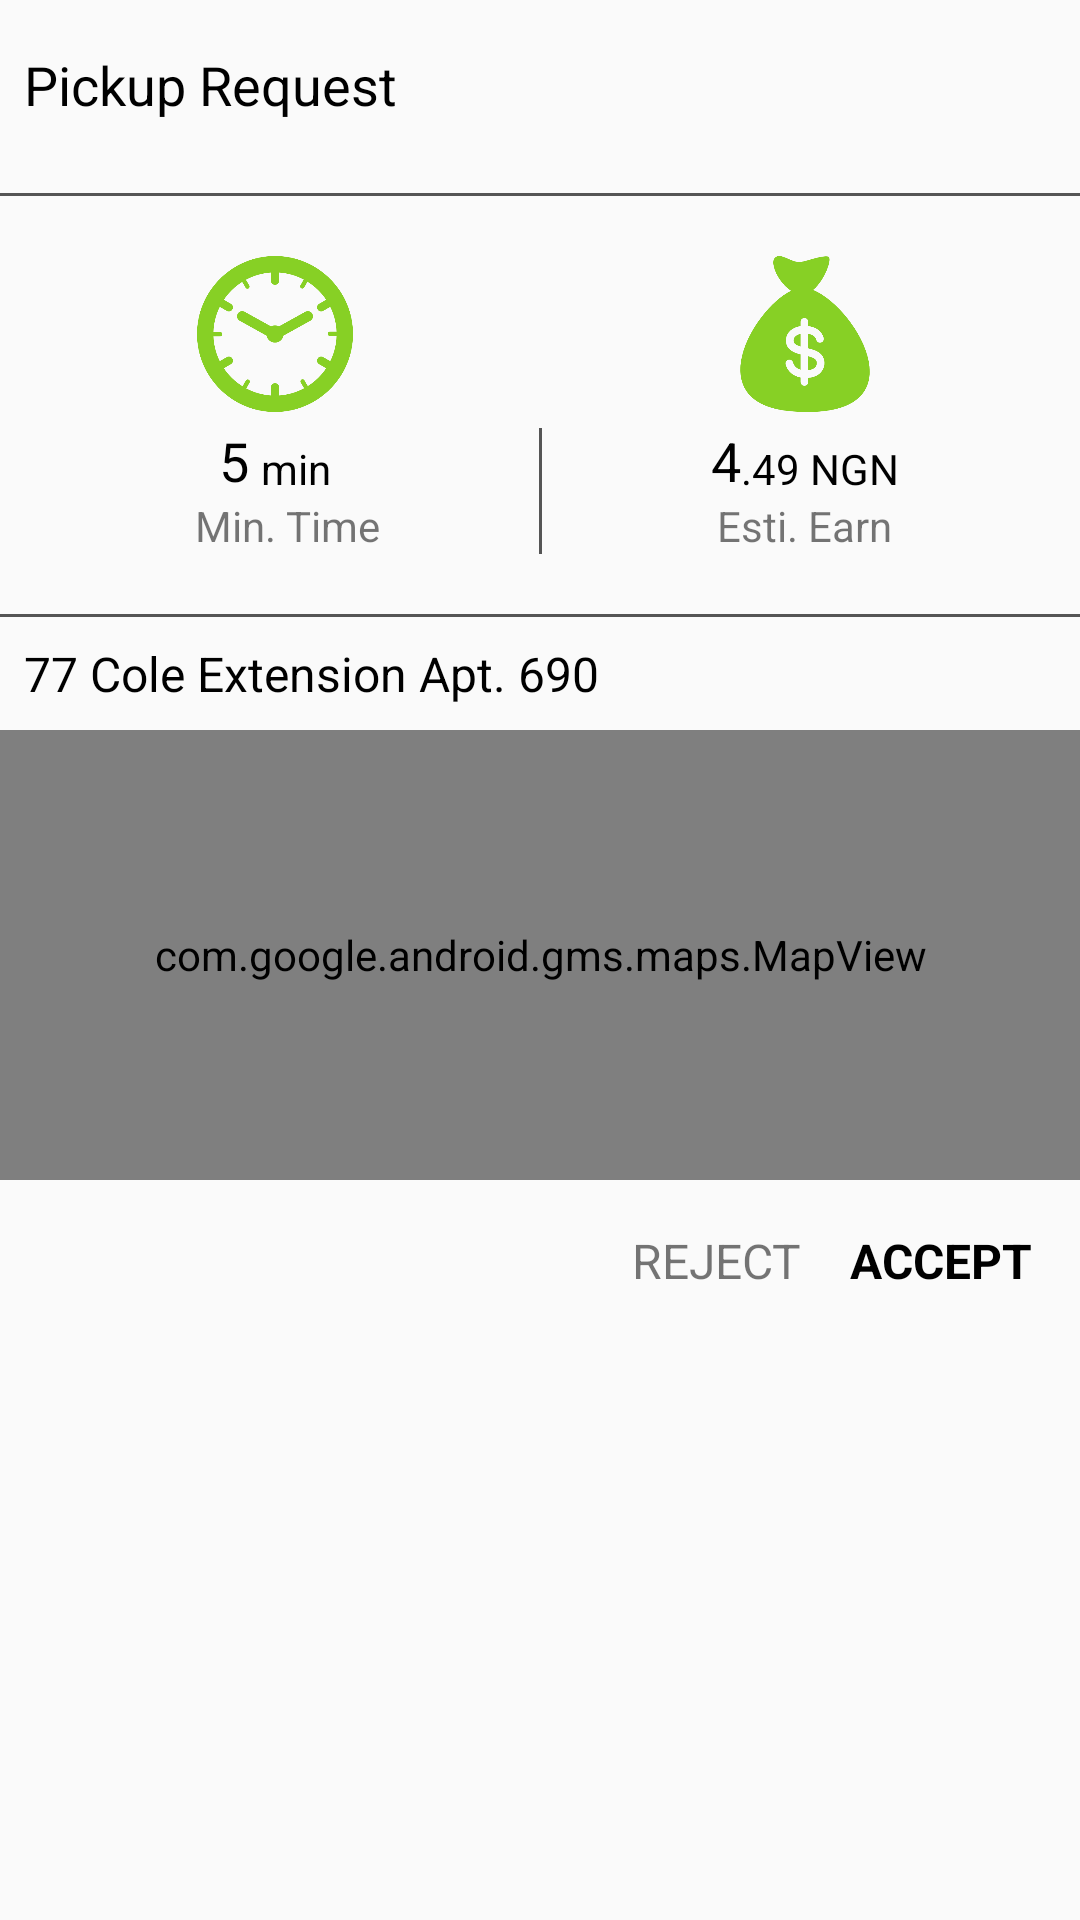

Point at icon controls on the screen. Image size 1080w x 1920h, points as [x,y].
moneybag: [805,334]
timer: [275,334]
